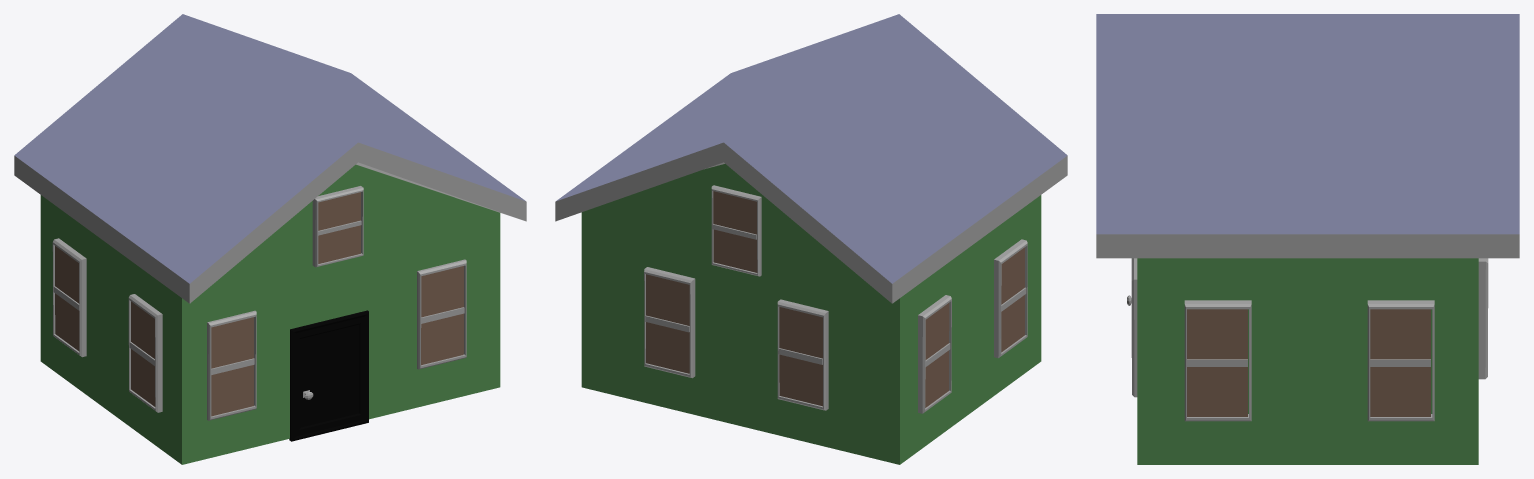
File: Farmhouse3.fbx
3 renders of one model, left to right at view 1: azimuth 30°, elevation 25°; view 2: azimuth 150°, elevation 25°; view 3: azimuth 270°, elevation 25°, orthographic. The views are drawn at different scales.
Visible parts, largest first — view 1: pCube140, pSphere21, polySurface420, polySurface421, polySurface422, polySurface428, polySurface429; view 2: pCube140, polySurface426, polySurface425, polySurface427, polySurface428, polySurface429; view 3: pCube140, polySurface424, polySurface423, polySurface425, polySurface421.
Boxes of the visible parts, <box> form: pCube140: <box>14,14,526,464</box>; pSphere21: <box>289,310,368,441</box>; polySurface420: <box>207,310,256,420</box>; polySurface421: <box>417,259,466,369</box>; polySurface422: <box>312,186,363,267</box>; polySurface428: <box>128,294,162,412</box>; polySurface429: <box>52,238,86,357</box>; pCube140: <box>555,14,1067,464</box>; polySurface426: <box>777,299,828,410</box>; polySurface425: <box>644,267,695,378</box>; polySurface427: <box>711,185,761,276</box>; polySurface428: <box>994,239,1027,358</box>; polySurface429: <box>918,295,951,413</box>; pCube140: <box>1096,14,1519,464</box>; polySurface424: <box>1367,300,1434,421</box>; polySurface423: <box>1184,300,1251,421</box>; polySurface425: <box>1478,258,1488,379</box>; polySurface421: <box>1131,258,1137,397</box>.
Bounding box in the file's own units: 59.74 × 50.49 × 53.88.
